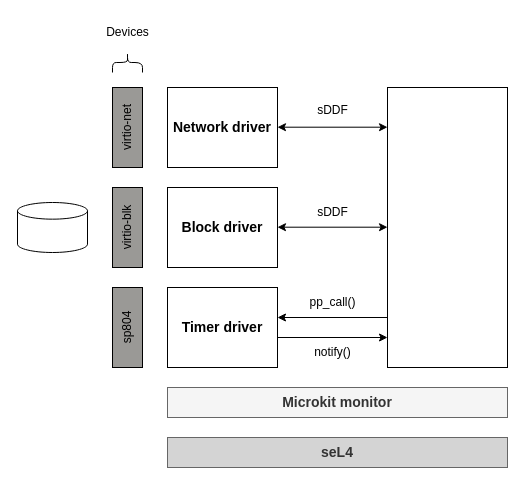
This 525x485 diagram has some shape labels left out. Each missing label, with the box of its shape:
HTTP server Concurrency Filesystem TCP/IP stack MbedTLS: (386, 86, 508, 368)
Static site: (16, 202, 88, 252)
